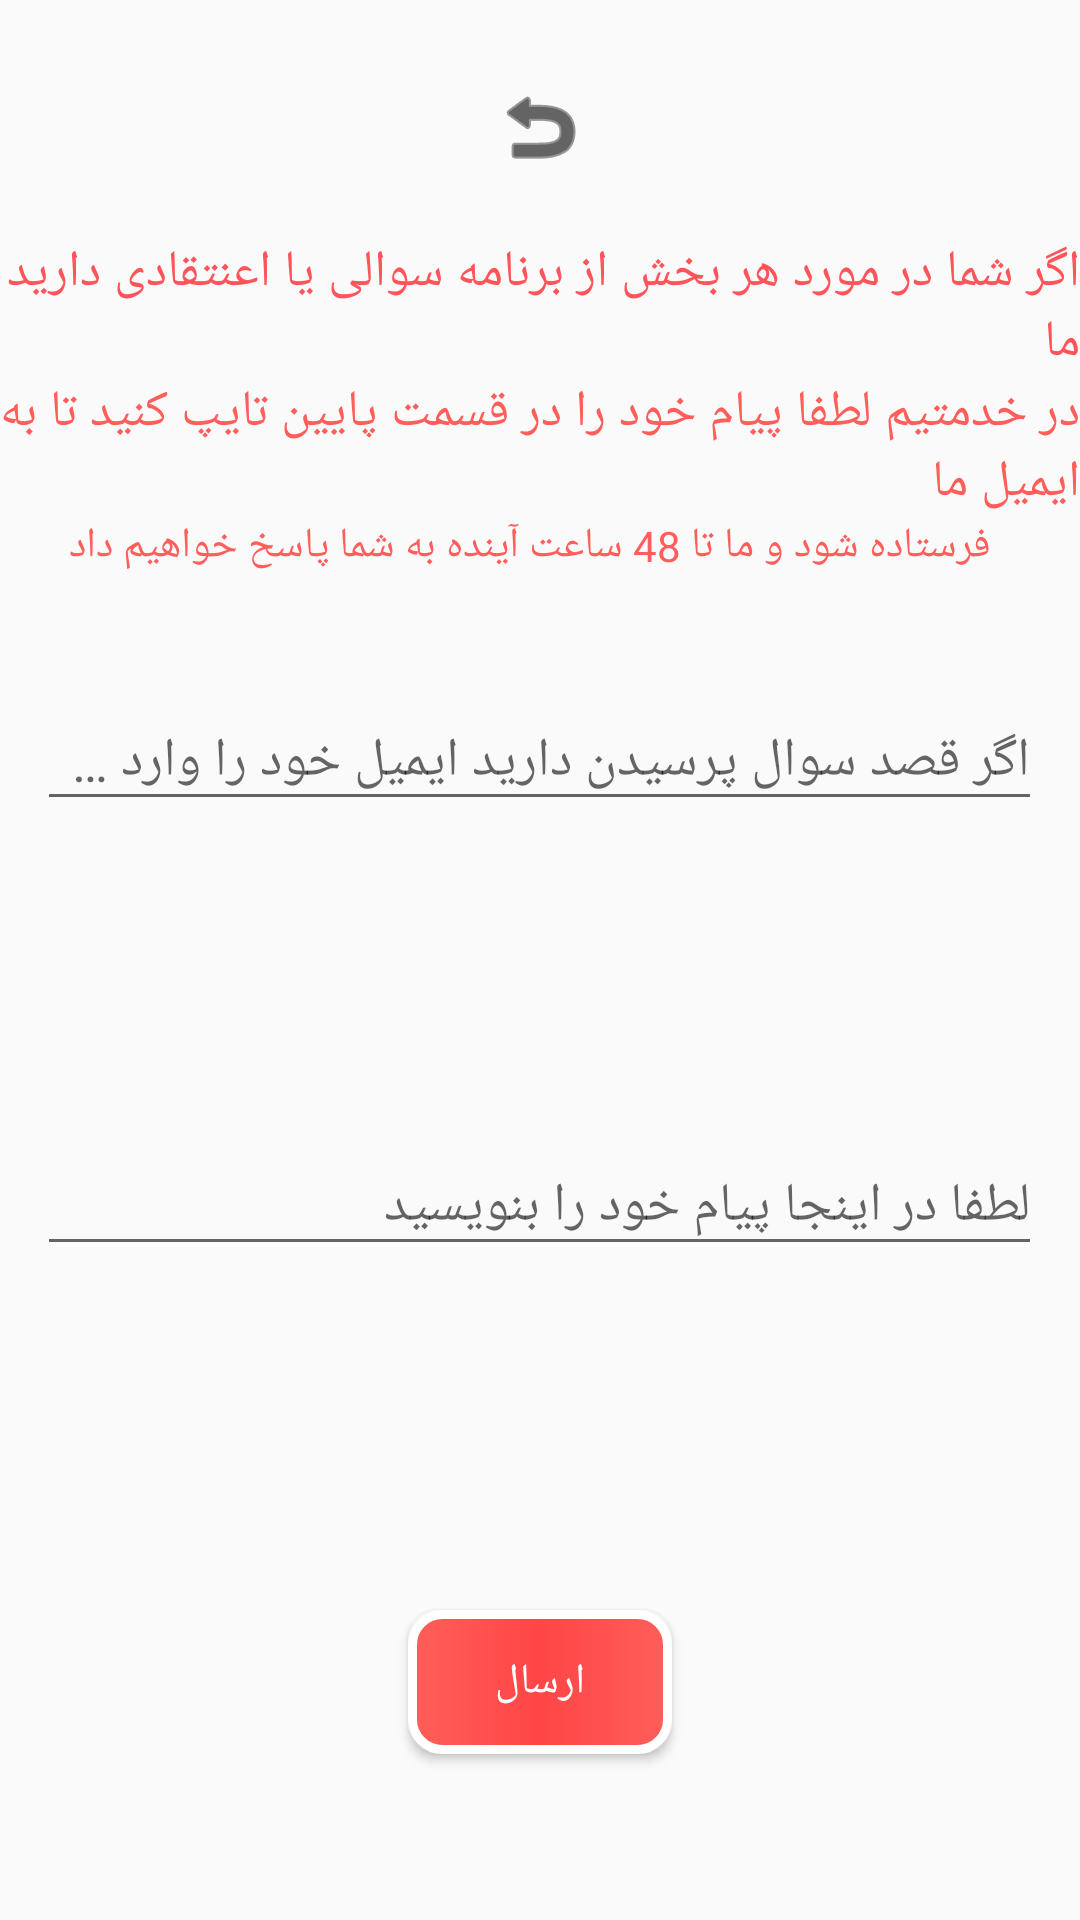

Where to tap for icons on this 1080x1920 app screen, as (x,y):
revert: (541,127)
